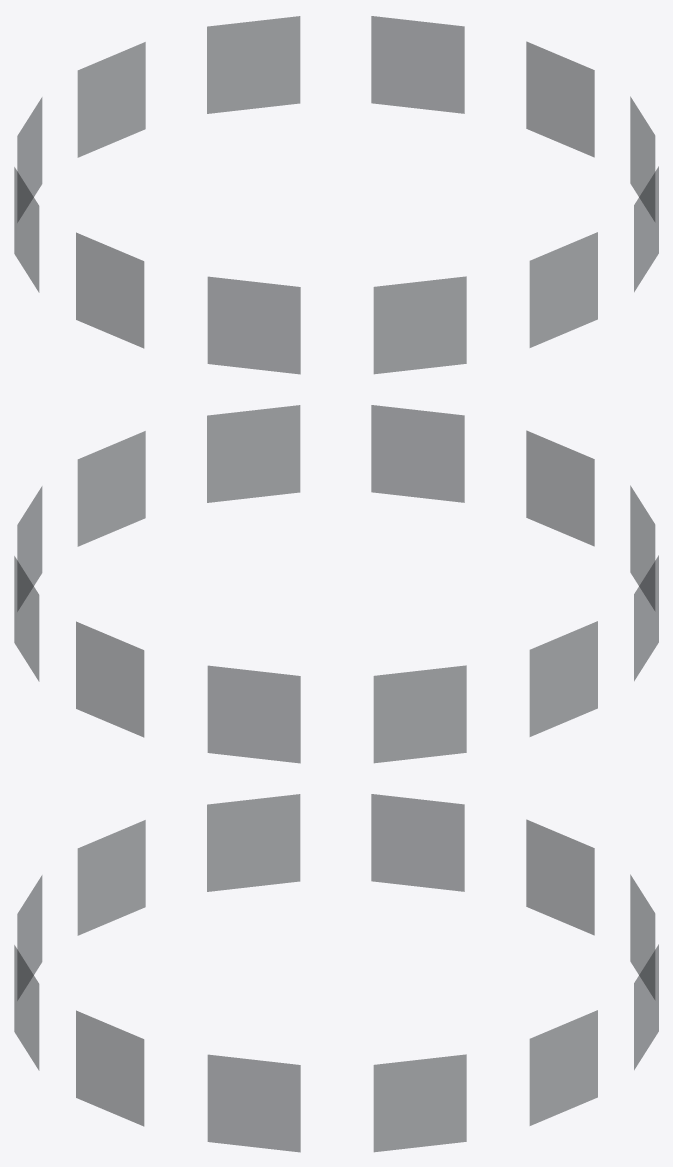
The model's file is SM_Bld_Hall_01_Glass.glb.
3 views of the same model, one above another, from view 1: azimuth 30°, elevation 25°; view 2: azimuth 150°, elevation 25°; view 3: azimuth 270°, elevation 25° (orthographic).
Parts seen in each view (by area): view 1: SM_Bld_Hall_01_Glass; view 2: SM_Bld_Hall_01_Glass; view 3: SM_Bld_Hall_01_Glass.
Boxes of the visible parts, left/top/right/bottom form: SM_Bld_Hall_01_Glass: left=14, top=16, right=658, bottom=374; SM_Bld_Hall_01_Glass: left=14, top=405, right=658, bottom=763; SM_Bld_Hall_01_Glass: left=14, top=794, right=658, bottom=1152.
Size of the model in its own units: 6.68 by 1 by 6.68.
1 material, 1 textured.
